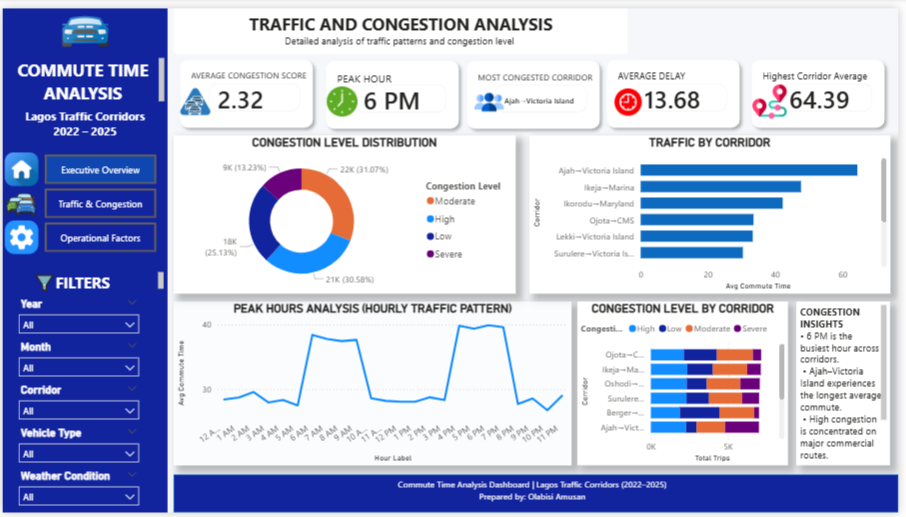

What the dashboard file says about the page in this screenshot:
{"tool":"powerbi","page":{"name":"Traffic and Congestion Analysis","canvas":[1280,720],"ordinal":1},"visuals":[{"type":"group","id":"g1","title":"Group 3","box":[0,0,235.4,719.8],"z":0},{"type":"shape","box":[0,0,235.6,720],"z":0,"group":"g1"},{"type":"shape","box":[854.1,64.7,208,115],"z":0,"group":"g6"},{"type":"shape","box":[245,64.8,208,115],"z":0,"group":"g5"},{"type":"shape","box":[1061.3,64.8,208,115],"z":0,"group":"g7"},{"type":"shape","box":[452.2,66.2,208,115],"z":0,"group":"g4"},{"type":"shape","box":[653.8,66.2,208,115],"z":0,"group":"g3"},{"type":"actionButton","box":[60,209.2,159.5,42.4],"z":0,"group":"g11"},{"type":"actionButton","box":[60,257.5,159.5,42.4],"z":0,"group":"g13"},{"type":"actionButton","box":[60,305.8,159.5,42.4],"z":0,"group":"g14"},{"type":"textbox","box":[0,371,235.4,35.8],"z":0,"group":"g16"},{"type":"textbox","box":[0,65.9,235.6,73.2],"z":1000,"group":"g1"},{"type":"cardVisual","fields":{"Data":["Measure.Avg Delay"]},"box":[887.1,90.9,165.2,74.3],"z":1000,"group":"g6"},{"type":"cardVisual","fields":{"Data":["Measure.Avg Congestion"]},"box":[278,91,165.2,74.3],"z":1000,"group":"g5"},{"type":"cardVisual","fields":{"Data":["Measure.Highest Avg Commute"]},"box":[1094.3,91,165.2,74.3],"z":1000,"group":"g7"},{"type":"cardVisual","fields":{"Data":["Measure.Peak Hour"]},"box":[485.2,92.4,165.2,74.3],"z":1000,"group":"g4"},{"type":"cardVisual","fields":{"Data":["Measure.Most Congested Corridor"]},"box":[686.8,92.4,165.2,74.3],"z":1000,"group":"g3"},{"type":"donutChart","title":"CONGESTION LEVEL DISTRIBUTION","fields":{"Y":["Measure.Total Trips"],"Category":["commute.Congestion Level"]},"box":[244.3,181.4,488.6,225.7],"z":1000},{"type":"image","box":[0,206.3,54.1,48.3],"z":1000,"group":"g11"},{"type":"image","box":[0,254.6,54.1,48.3],"z":1000,"group":"g13"},{"type":"image","box":[0,302.9,54.1,48.3],"z":1000,"group":"g14"},{"type":"image","box":[35.1,374.6,48.3,32.2],"z":1000,"group":"g16"},{"type":"image","box":[0,0,235.6,65.9],"z":2000,"group":"g1"},{"type":"textbox","box":[265,81.8,178.6,33.1],"z":2000,"group":"g5"},{"type":"textbox","box":[874.7,82.6,177.5,33],"z":2000,"group":"g6"},{"type":"textbox","box":[1081.9,82.7,177.5,33],"z":2000,"group":"g7"},{"type":"textbox","box":[472.8,84.1,177.5,33],"z":2000,"group":"g4"},{"type":"textbox","box":[674.4,84.1,177.5,33],"z":2000,"group":"g3"},{"type":"clusteredBarChart","title":"TRAFFIC BY CORRIDOR","fields":{"Category":["commute.Corridor"],"Y":["Measure.Avg Commute Time"]},"box":[752.9,181.4,515.7,225.7],"z":2000},{"type":"slicer","fields":{"Values":["Calendar.Year"]},"box":[13.2,406.8,191.7,61.5],"z":3000,"group":"g1"},{"type":"lineChart","title":"PEAK HOURS ANALYSIS (HOURLY TRAFFIC PATTERN)","fields":{"Category":["commute.Hour Label"],"Y":["Measure.Avg Commute Time"]},"box":[244.3,418.6,568.6,234.3],"z":3000},{"type":"slicer","fields":{"Values":["commute.Corridor"]},"box":[13.2,529.8,191.7,61.5],"z":4000,"group":"g1"},{"type":"textbox","box":[244.8,0,649.4,64.8],"z":5000},{"type":"slicer","fields":{"Values":["Calendar.Month"]},"box":[13.2,468.3,191.7,61.5],"z":5000,"group":"g1"},{"type":"group","id":"g2","title":"Group 5","box":[1061.3,64.8,207.4,115.2],"z":6000},{"type":"slicer","fields":{"Values":["commute.Vehicle Type"]},"box":[13.2,591.2,191.7,61.5],"z":6000,"group":"g1"},{"type":"group","id":"g3","title":"Group 4","box":[653.8,66.2,208,115],"z":6010,"group":"g12"},{"type":"group","id":"g4","title":"Group 4","box":[452.2,66.2,207.8,115.6],"z":6011,"group":"g10"},{"type":"group","id":"g5","title":"Group 4","box":[245,64.8,207.4,115.2],"z":6012,"group":"g9"},{"type":"group","id":"g6","title":"Group 4","box":[854.1,64.7,207.8,115.6],"z":6013,"group":"g8"},{"type":"group","id":"g7","title":"Group 4","box":[1061.3,64.8,207.8,115.6],"z":6014,"group":"g2"},{"type":"image","box":[861.2,115.2,64.8,38.9],"z":6019,"group":"g8"},{"type":"image","box":[456.2,111.4,56.2,43.2],"z":6020,"group":"g10"},{"type":"image","box":[1069.1,109.6,54.7,49],"z":6021,"group":"g2"},{"type":"image","box":[673.8,105.1,41.8,59],"z":6022,"group":"g12"},{"type":"image","box":[244.8,108.9,61.9,47.5],"z":6023,"group":"g9"},{"type":"group","id":"g8","title":"Group 6","box":[854.1,64.7,207.8,115.6],"z":7000},{"type":"slicer","fields":{"Values":["commute.Weather Condition"]},"box":[13.2,652.7,191.7,61.5],"z":7000,"group":"g1"},{"type":"group","id":"g9","title":"Group 7","box":[244.8,64.8,207.4,115.2],"z":8000},{"type":"textbox","box":[0,139,235.6,55.6],"z":8000,"group":"g1"},{"type":"group","id":"g10","title":"Group 8","box":[452.2,66.2,208.8,115.2],"z":9000},{"type":"group","id":"g11","title":"Group 1","box":[0,206.3,219.5,48.3],"z":9000,"group":"g1"},{"type":"group","id":"g12","title":"Group 9","box":[653.8,66.2,208.8,115.2],"z":10000},{"type":"group","id":"g13","title":"Group 1","box":[0,254.6,219.5,48.3],"z":10000,"group":"g1"},{"type":"group","id":"g14","title":"Group 1","box":[0,302.9,219.5,48.3],"z":11000,"group":"g1"},{"type":"barChart","title":"CONGESTION LEVEL BY CORRIDOR","fields":{"Series":["commute.Congestion Level"],"Category":["commute.Corridor"],"Y":["Measure.Total Trips"]},"box":[821.4,418.6,301.4,234.3],"z":11000},{"type":"textbox","box":[1134.3,418.6,134.3,234.3],"z":11001},{"type":"shape","box":[244.3,665.7,1035.7,54.3],"z":11002,"group":"g15"},{"type":"textbox","box":[245.7,665.7,1022.9,48.6],"z":11003,"group":"g15"},{"type":"group","id":"g15","title":"Group 10","box":[244.3,665.7,1035.7,54.3],"z":11004},{"type":"group","id":"g16","title":"Group 2","box":[0,371,235.4,35.8],"z":12000,"group":"g1"}]}

Visuals, with their boxes in screenshot pixels (x1, y1, x2, y2), scaled from the page's 1280x720 canvas onto the 906x517 screenshot:
"Group 3" group: (x1=0, y1=0, x2=167, y2=516)
shape: (x1=0, y1=0, x2=167, y2=516)
shape: (x1=605, y1=46, x2=752, y2=129)
shape: (x1=173, y1=47, x2=321, y2=129)
shape: (x1=751, y1=47, x2=898, y2=129)
shape: (x1=320, y1=48, x2=467, y2=130)
shape: (x1=463, y1=48, x2=610, y2=130)
actionButton: (x1=42, y1=150, x2=155, y2=181)
actionButton: (x1=42, y1=185, x2=155, y2=215)
actionButton: (x1=42, y1=220, x2=155, y2=250)
textbox: (x1=0, y1=266, x2=167, y2=292)
textbox: (x1=0, y1=47, x2=167, y2=100)
cardVisual - Measure.Avg Delay: (x1=628, y1=65, x2=745, y2=119)
cardVisual - Measure.Avg Congestion: (x1=197, y1=65, x2=314, y2=119)
cardVisual - Measure.Highest Avg Commute: (x1=775, y1=65, x2=891, y2=119)
cardVisual - Measure.Peak Hour: (x1=343, y1=66, x2=460, y2=120)
cardVisual - Measure.Most Congested Corridor: (x1=486, y1=66, x2=603, y2=120)
"CONGESTION LEVEL DISTRIBUTION" donutChart: (x1=173, y1=130, x2=519, y2=292)
image: (x1=0, y1=148, x2=38, y2=183)
image: (x1=0, y1=183, x2=38, y2=217)
image: (x1=0, y1=217, x2=38, y2=252)
image: (x1=25, y1=269, x2=59, y2=292)
image: (x1=0, y1=0, x2=167, y2=47)
textbox: (x1=188, y1=59, x2=314, y2=83)
textbox: (x1=619, y1=59, x2=745, y2=83)
textbox: (x1=766, y1=59, x2=891, y2=83)
textbox: (x1=335, y1=60, x2=460, y2=84)
textbox: (x1=477, y1=60, x2=603, y2=84)
"TRAFFIC BY CORRIDOR" clusteredBarChart: (x1=533, y1=130, x2=898, y2=292)
slicer - Calendar.Year: (x1=9, y1=292, x2=145, y2=336)
"PEAK HOURS ANALYSIS (HOURLY TRAFFIC PATTERN)" lineChart: (x1=173, y1=301, x2=575, y2=469)
slicer - commute.Corridor: (x1=9, y1=380, x2=145, y2=425)
textbox: (x1=173, y1=0, x2=633, y2=47)
slicer - Calendar.Month: (x1=9, y1=336, x2=145, y2=380)
"Group 5" group: (x1=751, y1=47, x2=898, y2=129)
slicer - commute.Vehicle Type: (x1=9, y1=425, x2=145, y2=469)
"Group 4" group: (x1=463, y1=48, x2=610, y2=130)
"Group 4" group: (x1=320, y1=48, x2=467, y2=131)
"Group 4" group: (x1=173, y1=47, x2=320, y2=129)
"Group 4" group: (x1=605, y1=46, x2=752, y2=129)
"Group 4" group: (x1=751, y1=47, x2=898, y2=130)
image: (x1=610, y1=83, x2=655, y2=111)
image: (x1=323, y1=80, x2=363, y2=111)
image: (x1=757, y1=79, x2=795, y2=114)
image: (x1=477, y1=75, x2=507, y2=118)
image: (x1=173, y1=78, x2=217, y2=112)
"Group 6" group: (x1=605, y1=46, x2=752, y2=129)
slicer - commute.Weather Condition: (x1=9, y1=469, x2=145, y2=513)
"Group 7" group: (x1=173, y1=47, x2=320, y2=129)
textbox: (x1=0, y1=100, x2=167, y2=140)
"Group 8" group: (x1=320, y1=48, x2=468, y2=130)
"Group 1" group: (x1=0, y1=148, x2=155, y2=183)
"Group 9" group: (x1=463, y1=48, x2=611, y2=130)
"Group 1" group: (x1=0, y1=183, x2=155, y2=217)
"Group 1" group: (x1=0, y1=217, x2=155, y2=252)
"CONGESTION LEVEL BY CORRIDOR" barChart: (x1=581, y1=301, x2=795, y2=469)
textbox: (x1=803, y1=301, x2=898, y2=469)
shape: (x1=173, y1=478, x2=905, y2=516)
textbox: (x1=174, y1=478, x2=898, y2=513)
"Group 10" group: (x1=173, y1=478, x2=905, y2=516)
"Group 2" group: (x1=0, y1=266, x2=167, y2=292)
